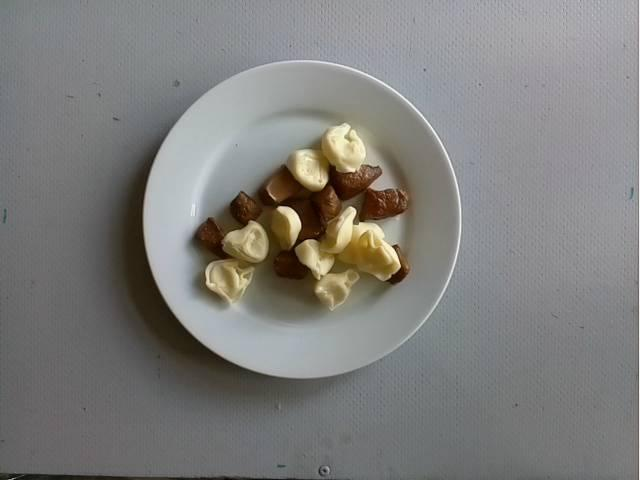Tortellini + meat: (195, 126, 404, 307)
